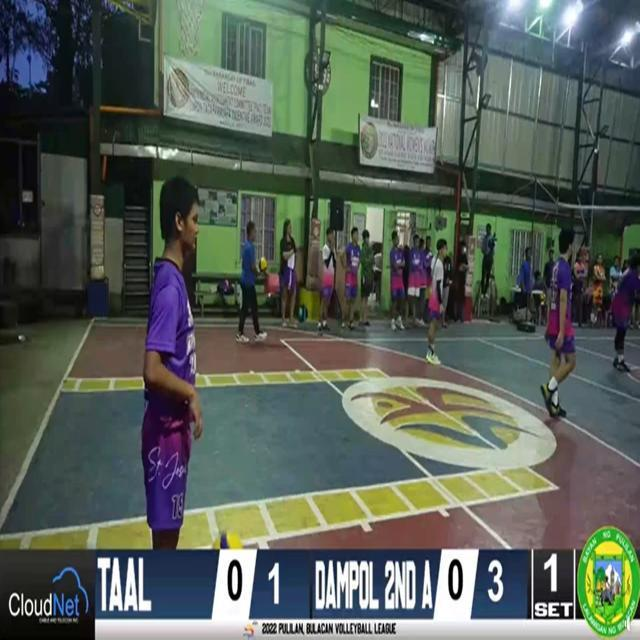volleyball: (259, 258, 268, 272)
